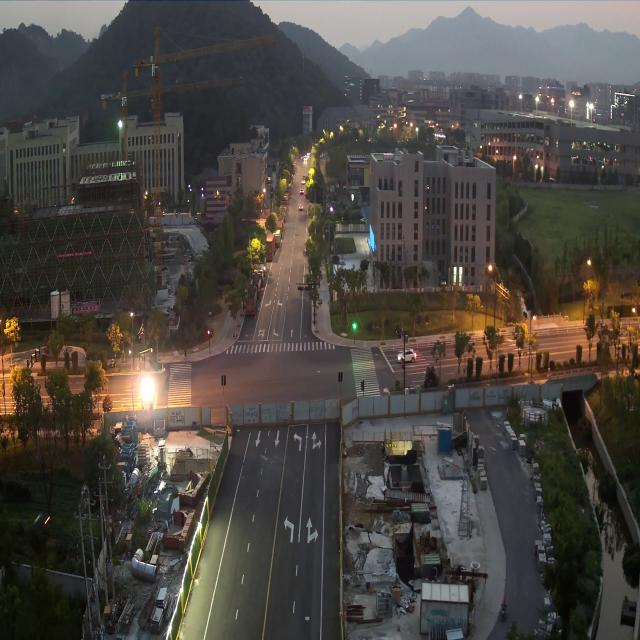UAV: (34, 511, 50, 524)
